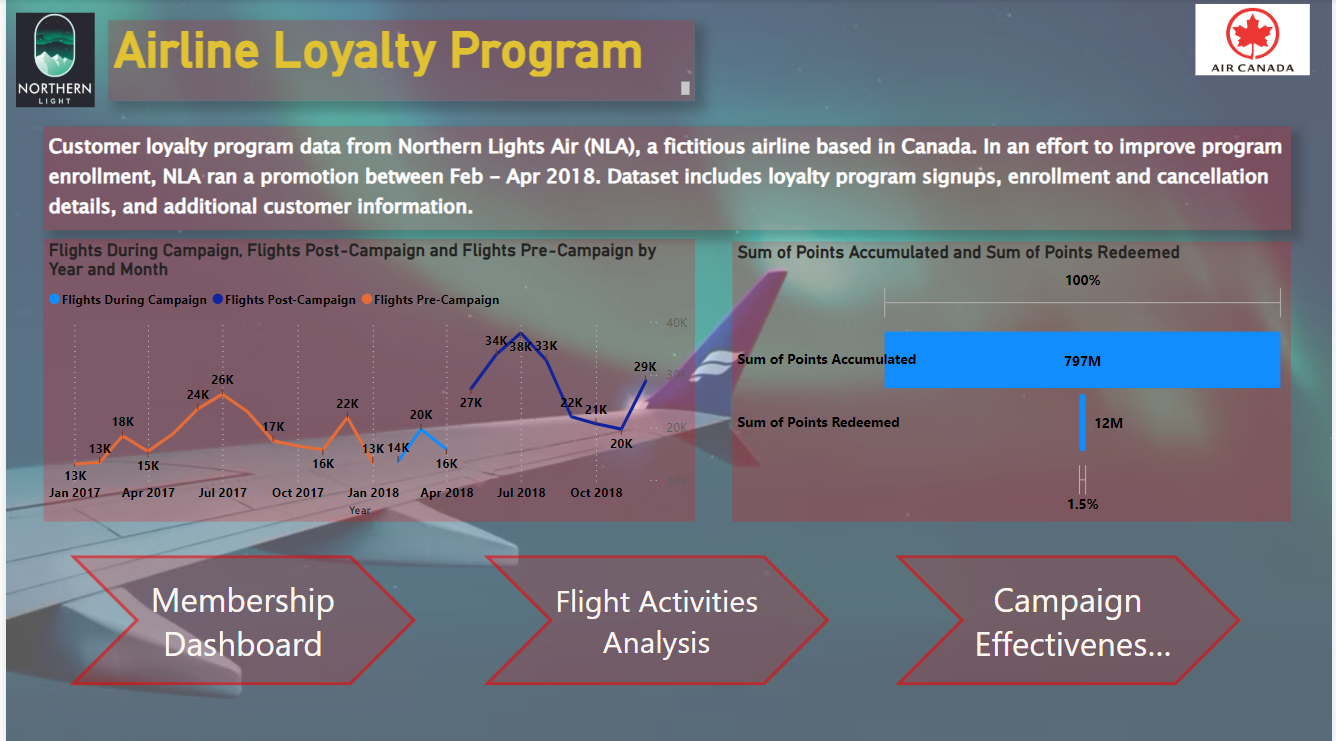

The page's visual inventory and layout, read from the dashboard file:
{"tool":"powerbi","page":{"name":"LANDING PAGE","canvas":[1280,720],"ordinal":0},"visuals":[{"type":"textbox","box":[36.2,123.1,1204,100.1],"z":0},{"type":"textbox","title":"Airline Loyalty Program","box":[98.9,20.5,565.8,77.2],"z":1000},{"type":"actionButton","title":"Membership Dashboard","box":[61.5,536.9,334.2,125.5],"z":2000},{"type":"actionButton","title":"Membership Dashboard","box":[857.8,536.9,334.2,125.5],"z":3000},{"type":"actionButton","title":"Membership Dashboard","box":[460.9,536.9,334.2,125.5],"z":4000},{"type":"image","box":[4.8,8.4,85.7,101.3],"z":5000},{"type":"funnel","fields":{"Y":["Sum(Customer Flight Activity.Points Accumulated)","Sum(Customer Flight Activity.Points Redeemed)"]},"box":[700.9,234,539.3,270.2],"z":6000},{"type":"image","box":[1125.6,0,154.4,78.4],"z":7000},{"type":"lineChart","fields":{"Category":["Calendar.Date.Variation.Date Hierarchy.Year","Calendar.Date.Variation.Date Hierarchy.Month"],"Y2":["Measure_Table.Flights During Campaign","Measure_Table.Flights Post-Campaign","Measure_Table.Flights Pre-Campaign"]},"box":[36.2,231.6,628.6,272.7],"z":8000}]}

Visuals, with their boxes in screenshot pixels (x1, y1, x2, y2), scaled from the page's 1280x720 canvas onto the 1336x741 screenshot:
textbox: <region>38, 127, 1294, 230</region>
"Airline Loyalty Program" textbox: <region>103, 21, 694, 101</region>
"Membership Dashboard" actionButton: <region>64, 553, 413, 682</region>
"Membership Dashboard" actionButton: <region>895, 553, 1244, 682</region>
"Membership Dashboard" actionButton: <region>481, 553, 830, 682</region>
image: <region>5, 9, 94, 113</region>
funnel - Sum(Customer Flight Activity.Points Accumulated) x Sum(Customer Flight Activity.Points Redeemed): <region>732, 241, 1294, 519</region>
image: <region>1175, 0, 1335, 81</region>
lineChart - Calendar.Date.Variation.Date Hierarchy.Year x Calendar.Date.Variation.Date Hierarchy.Month: <region>38, 238, 694, 519</region>
